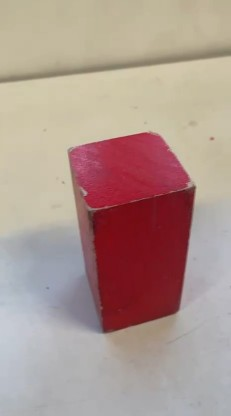red: (79, 125, 186, 320)
